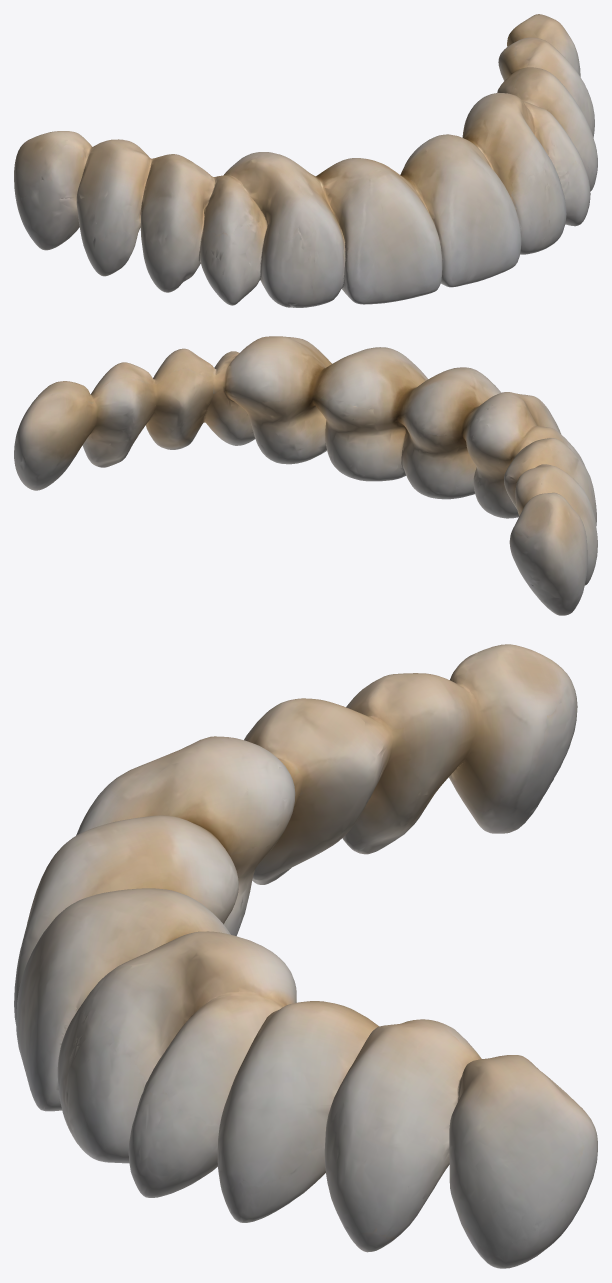
The model's file is splashteeth-web.glb.
The picture shows the model from 3 angles, top to bottom: view 1: azimuth 30°, elevation 25°; view 2: azimuth 150°, elevation 25°; view 3: azimuth 270°, elevation 25°; orthographic projection. The views are drawn at different scales.
Parts seen in each view (by area): view 1: model; view 2: model; view 3: model.
Part boxes in pixels (x1=…): model: x1=14, y1=14, x2=597, y2=307; model: x1=14, y1=336, x2=597, y2=615; model: x1=14, y1=644, x2=597, y2=1268.
Bounding box in the file's own units: 1.9 × 0.4139 × 1.01.
1 material, 1 textured.
